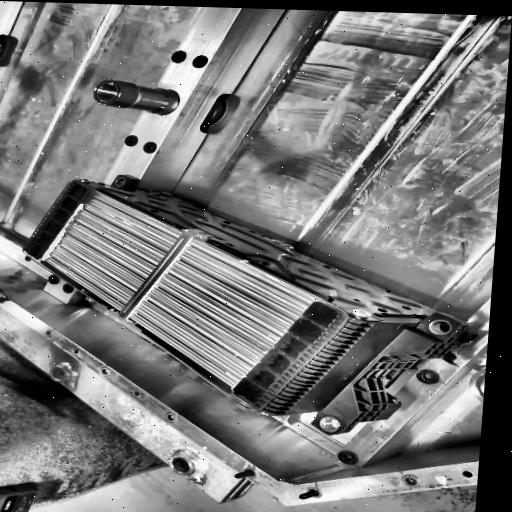battery_module: (29, 180, 370, 416)
